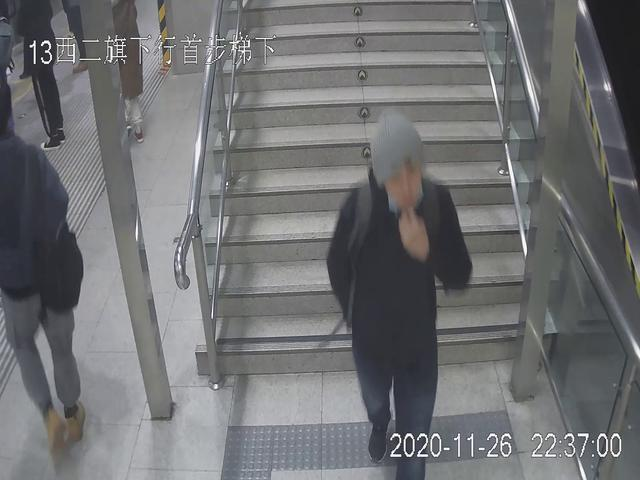person: (326, 109, 474, 480), (1, 84, 96, 466), (14, 1, 73, 151), (103, 1, 151, 150)
